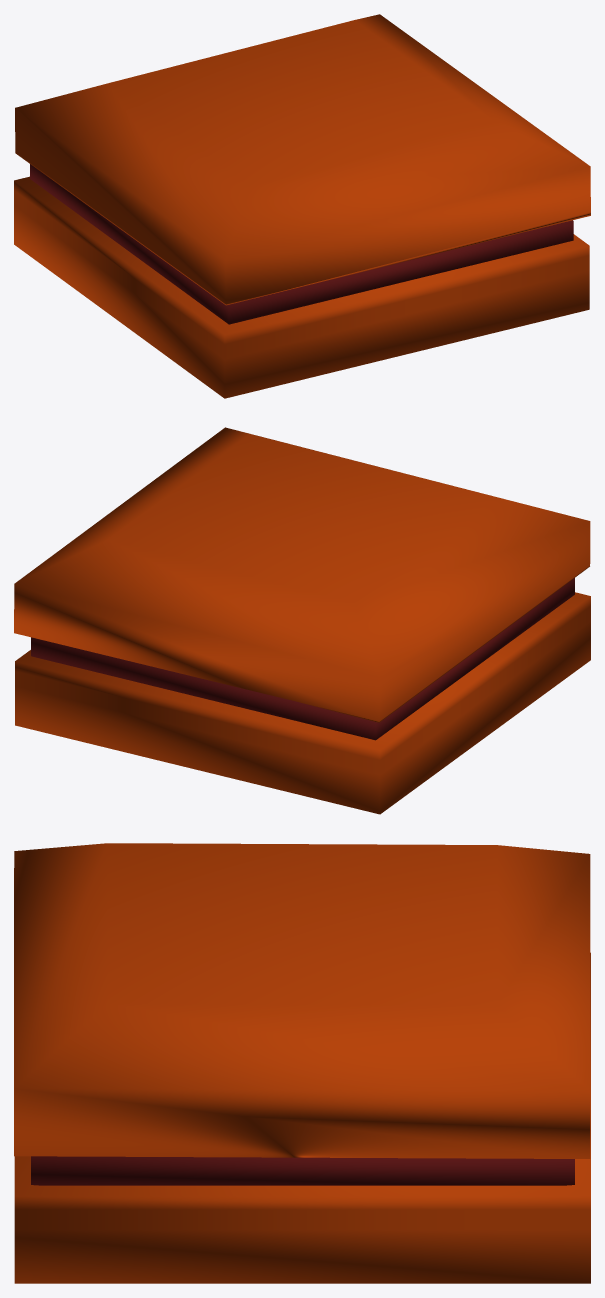
File: hamburger.glb
3 views of the same model, one above another, from view 1: azimuth 30°, elevation 25°; view 2: azimuth 150°, elevation 25°; view 3: azimuth 270°, elevation 25° (orthographic). The views are drawn at different scales.
Visible parts, largest first — view 1: Cube.003, Cube, Cube.001; view 2: Cube.003, Cube, Cube.001; view 3: Cube.003, Cube, Cube.001.
Part boxes in pixels (bbox=[...]): Cube.003: bbox=[15, 14, 590, 305]; Cube: bbox=[14, 176, 589, 398]; Cube.001: bbox=[30, 164, 573, 324]; Cube.003: bbox=[14, 427, 590, 722]; Cube: bbox=[15, 592, 590, 814]; Cube.001: bbox=[31, 578, 574, 740]; Cube.003: bbox=[14, 843, 590, 1158]; Cube: bbox=[14, 952, 590, 1283]; Cube.001: bbox=[31, 1156, 574, 1185].
Bounding box in the file's own units: 9.97 × 4.59 × 9.95.
